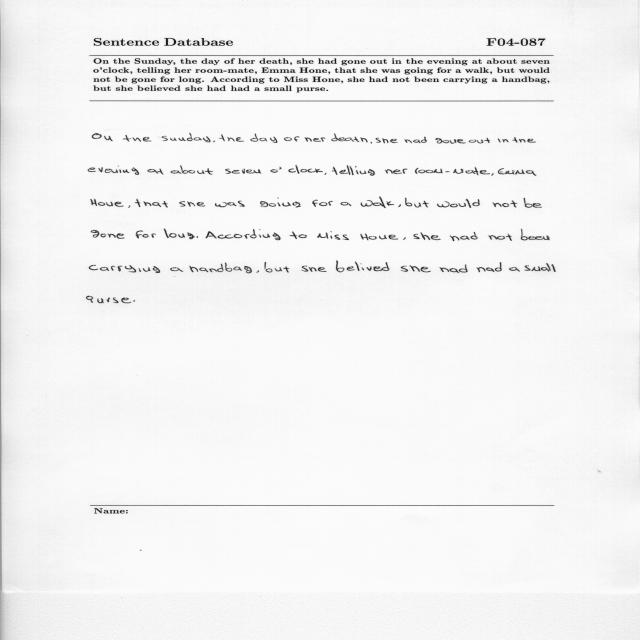word: (206, 229, 281, 240), (189, 263, 252, 274), (415, 167, 490, 175), (336, 261, 389, 272), (89, 265, 160, 273), (270, 165, 323, 174), (332, 165, 375, 176), (162, 134, 211, 143), (260, 198, 301, 208), (88, 167, 139, 175), (437, 199, 480, 208), (171, 166, 213, 175), (361, 197, 394, 208), (331, 134, 368, 143), (521, 229, 550, 240), (87, 296, 132, 303), (164, 229, 195, 239), (91, 230, 125, 239), (498, 168, 536, 176), (135, 199, 168, 208), (317, 231, 349, 240), (524, 263, 556, 272), (264, 262, 290, 273), (250, 133, 278, 143), (361, 234, 399, 241), (91, 199, 124, 207), (476, 262, 502, 272), (450, 232, 478, 241), (440, 264, 468, 273), (405, 198, 429, 208), (413, 233, 441, 241), (401, 266, 431, 273), (219, 134, 244, 142), (123, 135, 151, 142), (523, 198, 542, 208), (435, 138, 466, 144), (492, 201, 518, 208), (225, 169, 261, 174), (215, 201, 245, 207), (92, 133, 113, 141), (135, 231, 156, 239), (489, 234, 512, 241), (179, 201, 205, 207), (301, 266, 327, 272), (312, 200, 333, 207), (512, 137, 536, 143), (405, 137, 427, 143), (469, 138, 491, 144), (289, 232, 307, 239), (376, 138, 398, 143), (385, 169, 407, 174), (305, 137, 325, 142), (148, 169, 164, 175), (284, 137, 299, 142), (170, 267, 183, 272), (509, 267, 520, 272), (498, 139, 509, 143), (341, 202, 352, 206), (491, 173, 494, 176), (398, 204, 401, 207), (403, 237, 406, 240), (257, 270, 260, 273), (128, 205, 130, 208), (213, 141, 215, 143), (325, 173, 327, 175), (196, 236, 198, 238), (133, 300, 135, 302), (371, 142, 372, 144)
